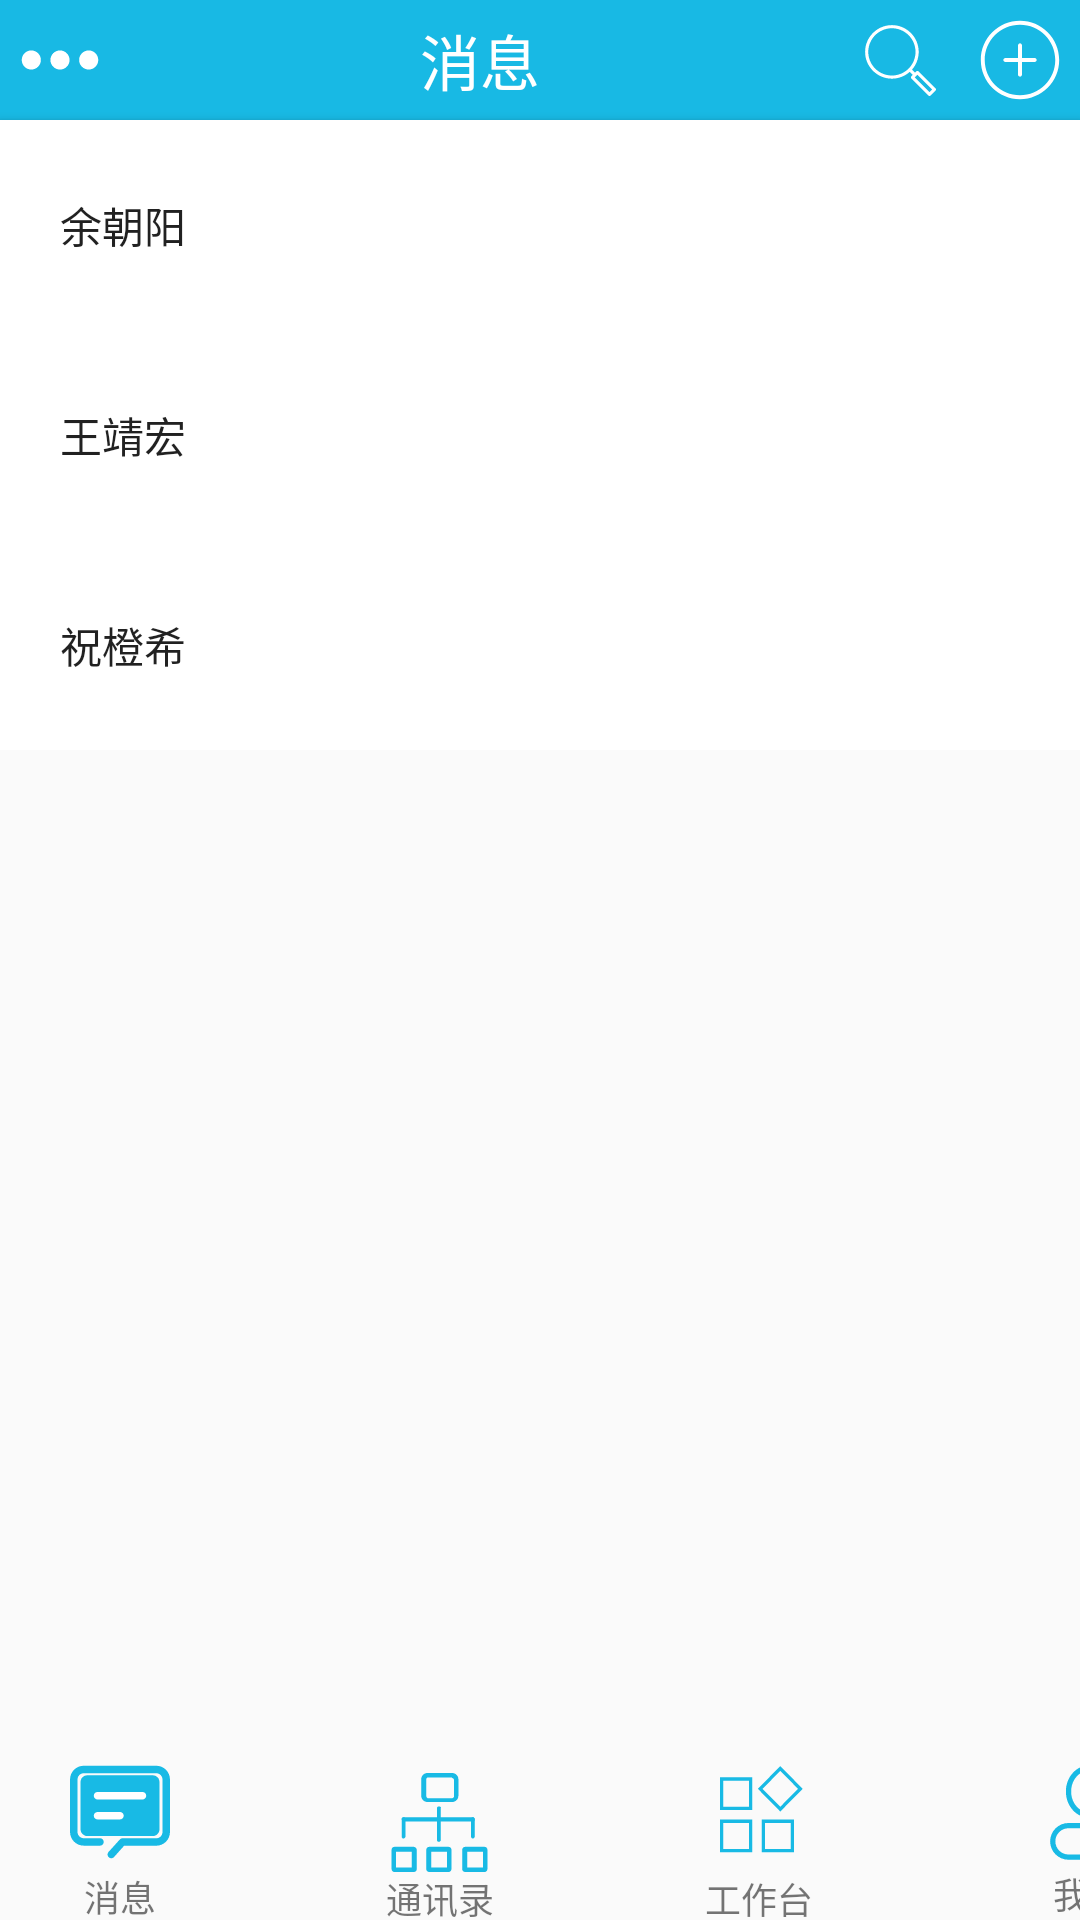

Where to tap for icons on this 1080px×1920px app screen, as (x,y):
more: (60,60)
search: (900,60)
tiny plus: (1020,60)
